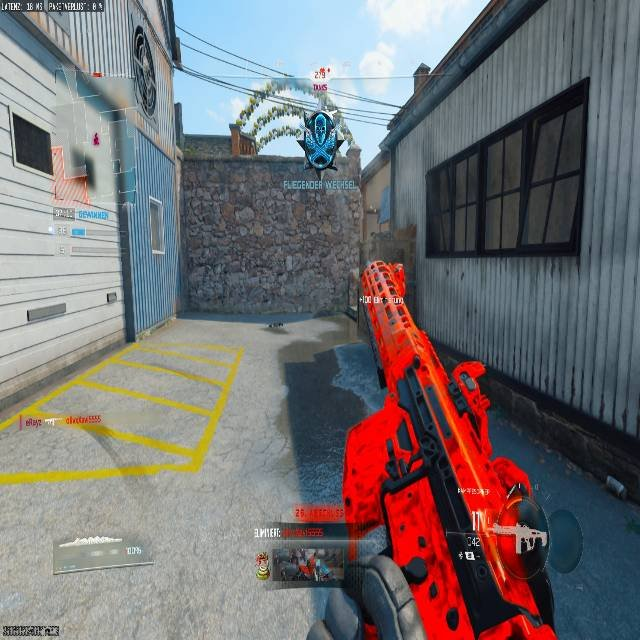player: (296, 102, 358, 172)
